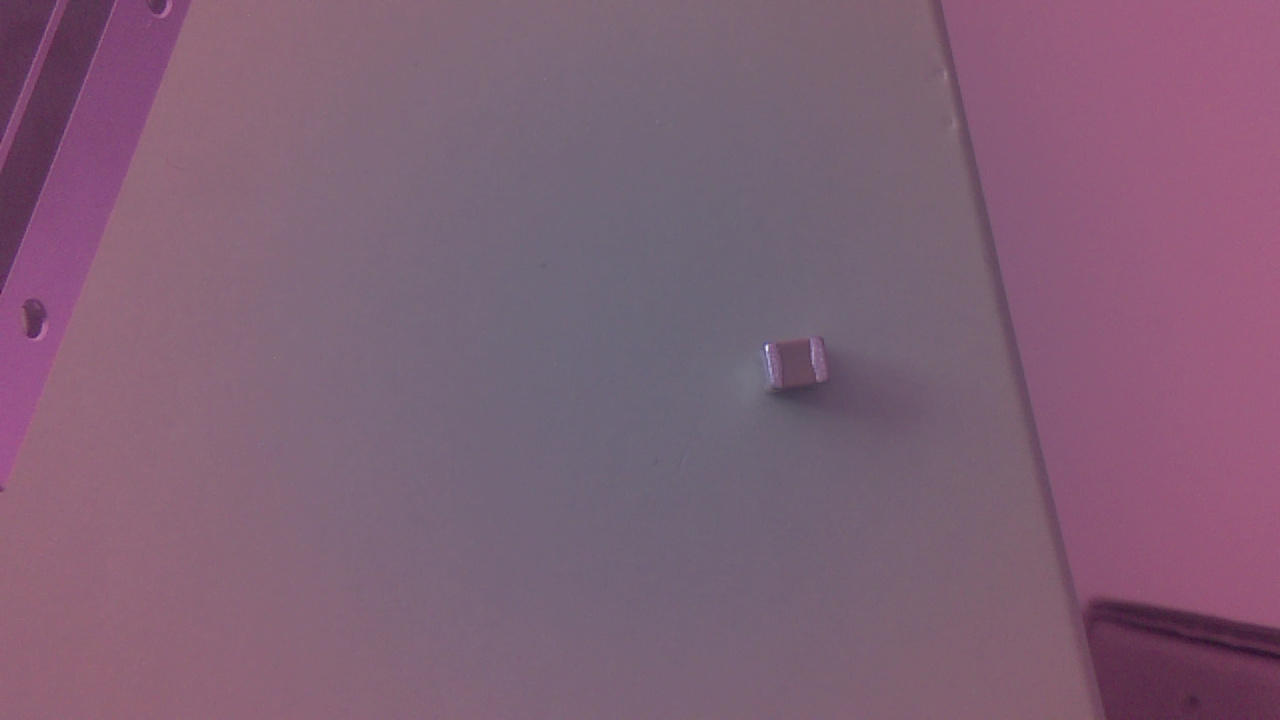Condensator: (760, 336, 842, 405)
